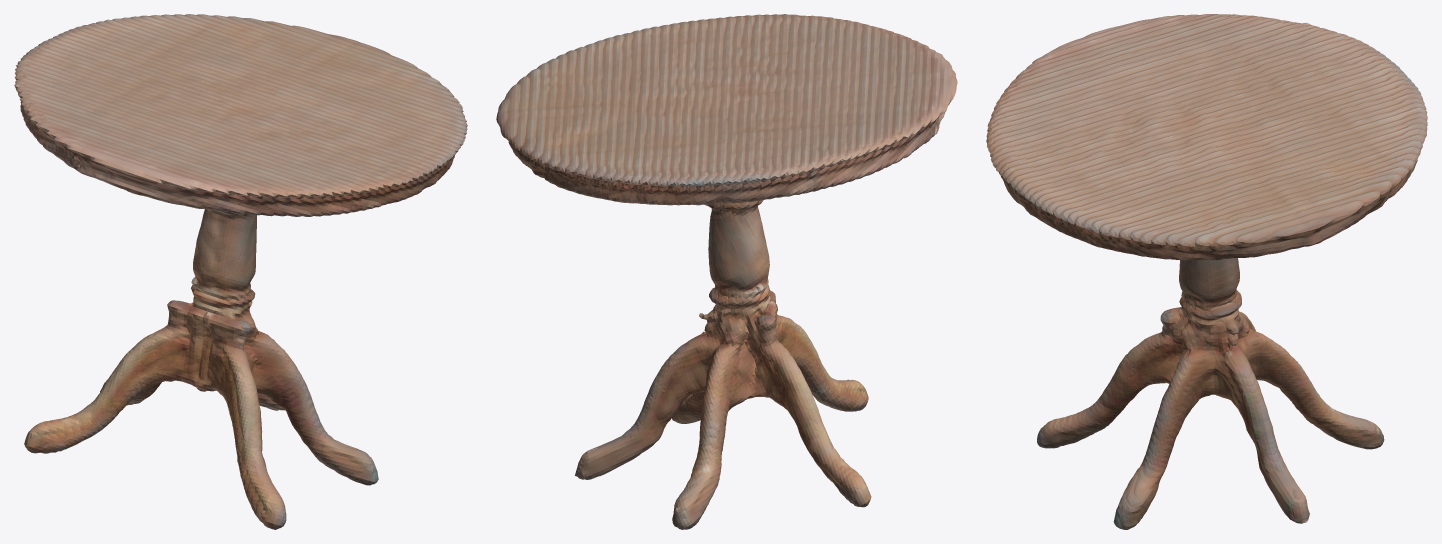
The picture shows the model from 3 angles, left to right: view 1: azimuth 30°, elevation 25°; view 2: azimuth 150°, elevation 25°; view 3: azimuth 270°, elevation 25°; orthographic projection. The views are drawn at different scales.
Parts seen in each view (by area): view 1: world.001; view 2: world.001; view 3: world.001.
Boxes of the visible parts, box(x1,y1,x2,y2) form: world.001: box(14, 14, 467, 529); world.001: box(496, 14, 957, 529); world.001: box(986, 14, 1427, 529).
Bounding box in the file's own units: 0.9458 × 0.9087 × 0.9474.
